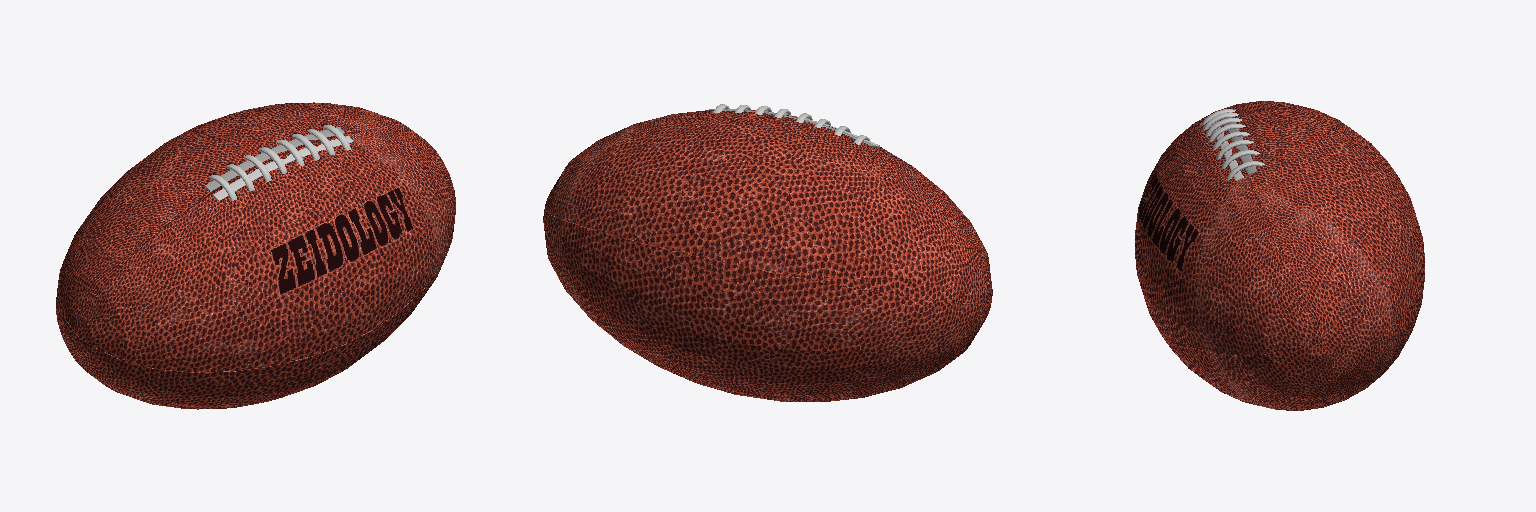
3 views of the same model, side by side, from view 1: azimuth 30°, elevation 25°; view 2: azimuth 150°, elevation 25°; view 3: azimuth 270°, elevation 25° (orthographic).
Visible parts, largest first — view 1: Sphere, Cube.008_Cube.009, Cube.009_Cube.010; view 2: Sphere; view 3: Sphere.
Boxes of the visible parts, x1=… form: Sphere: x1=56, y1=102, x2=455, y2=409; Cube.008_Cube.009: x1=213, y1=136, x2=352, y2=200; Cube.009_Cube.010: x1=205, y1=127, x2=344, y2=191; Sphere: x1=543, y1=110, x2=992, y2=401; Sphere: x1=1135, y1=101, x2=1424, y2=410.
Bounding box in the file's own units: 0.3368 × 0.2077 × 0.2116.
5 materials, 1 textured.